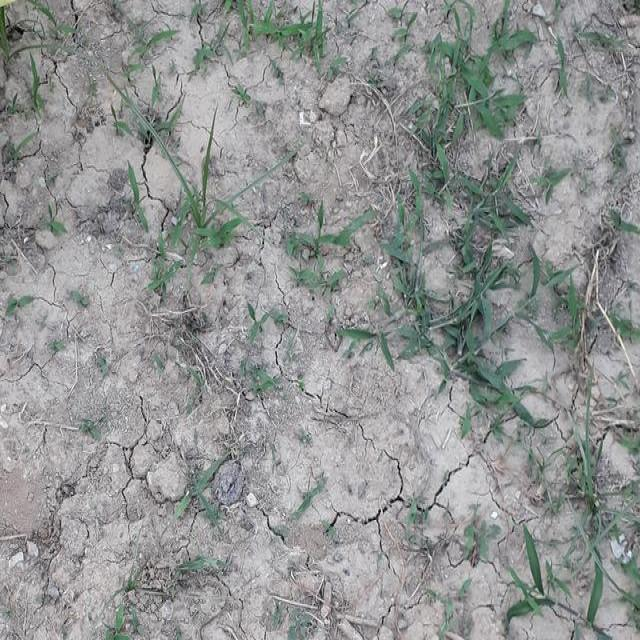weed: (392, 96, 495, 352), (480, 427, 640, 530), (497, 550, 640, 640), (109, 171, 202, 246), (174, 78, 298, 126), (469, 3, 637, 37), (283, 228, 365, 283), (83, 61, 208, 85)
